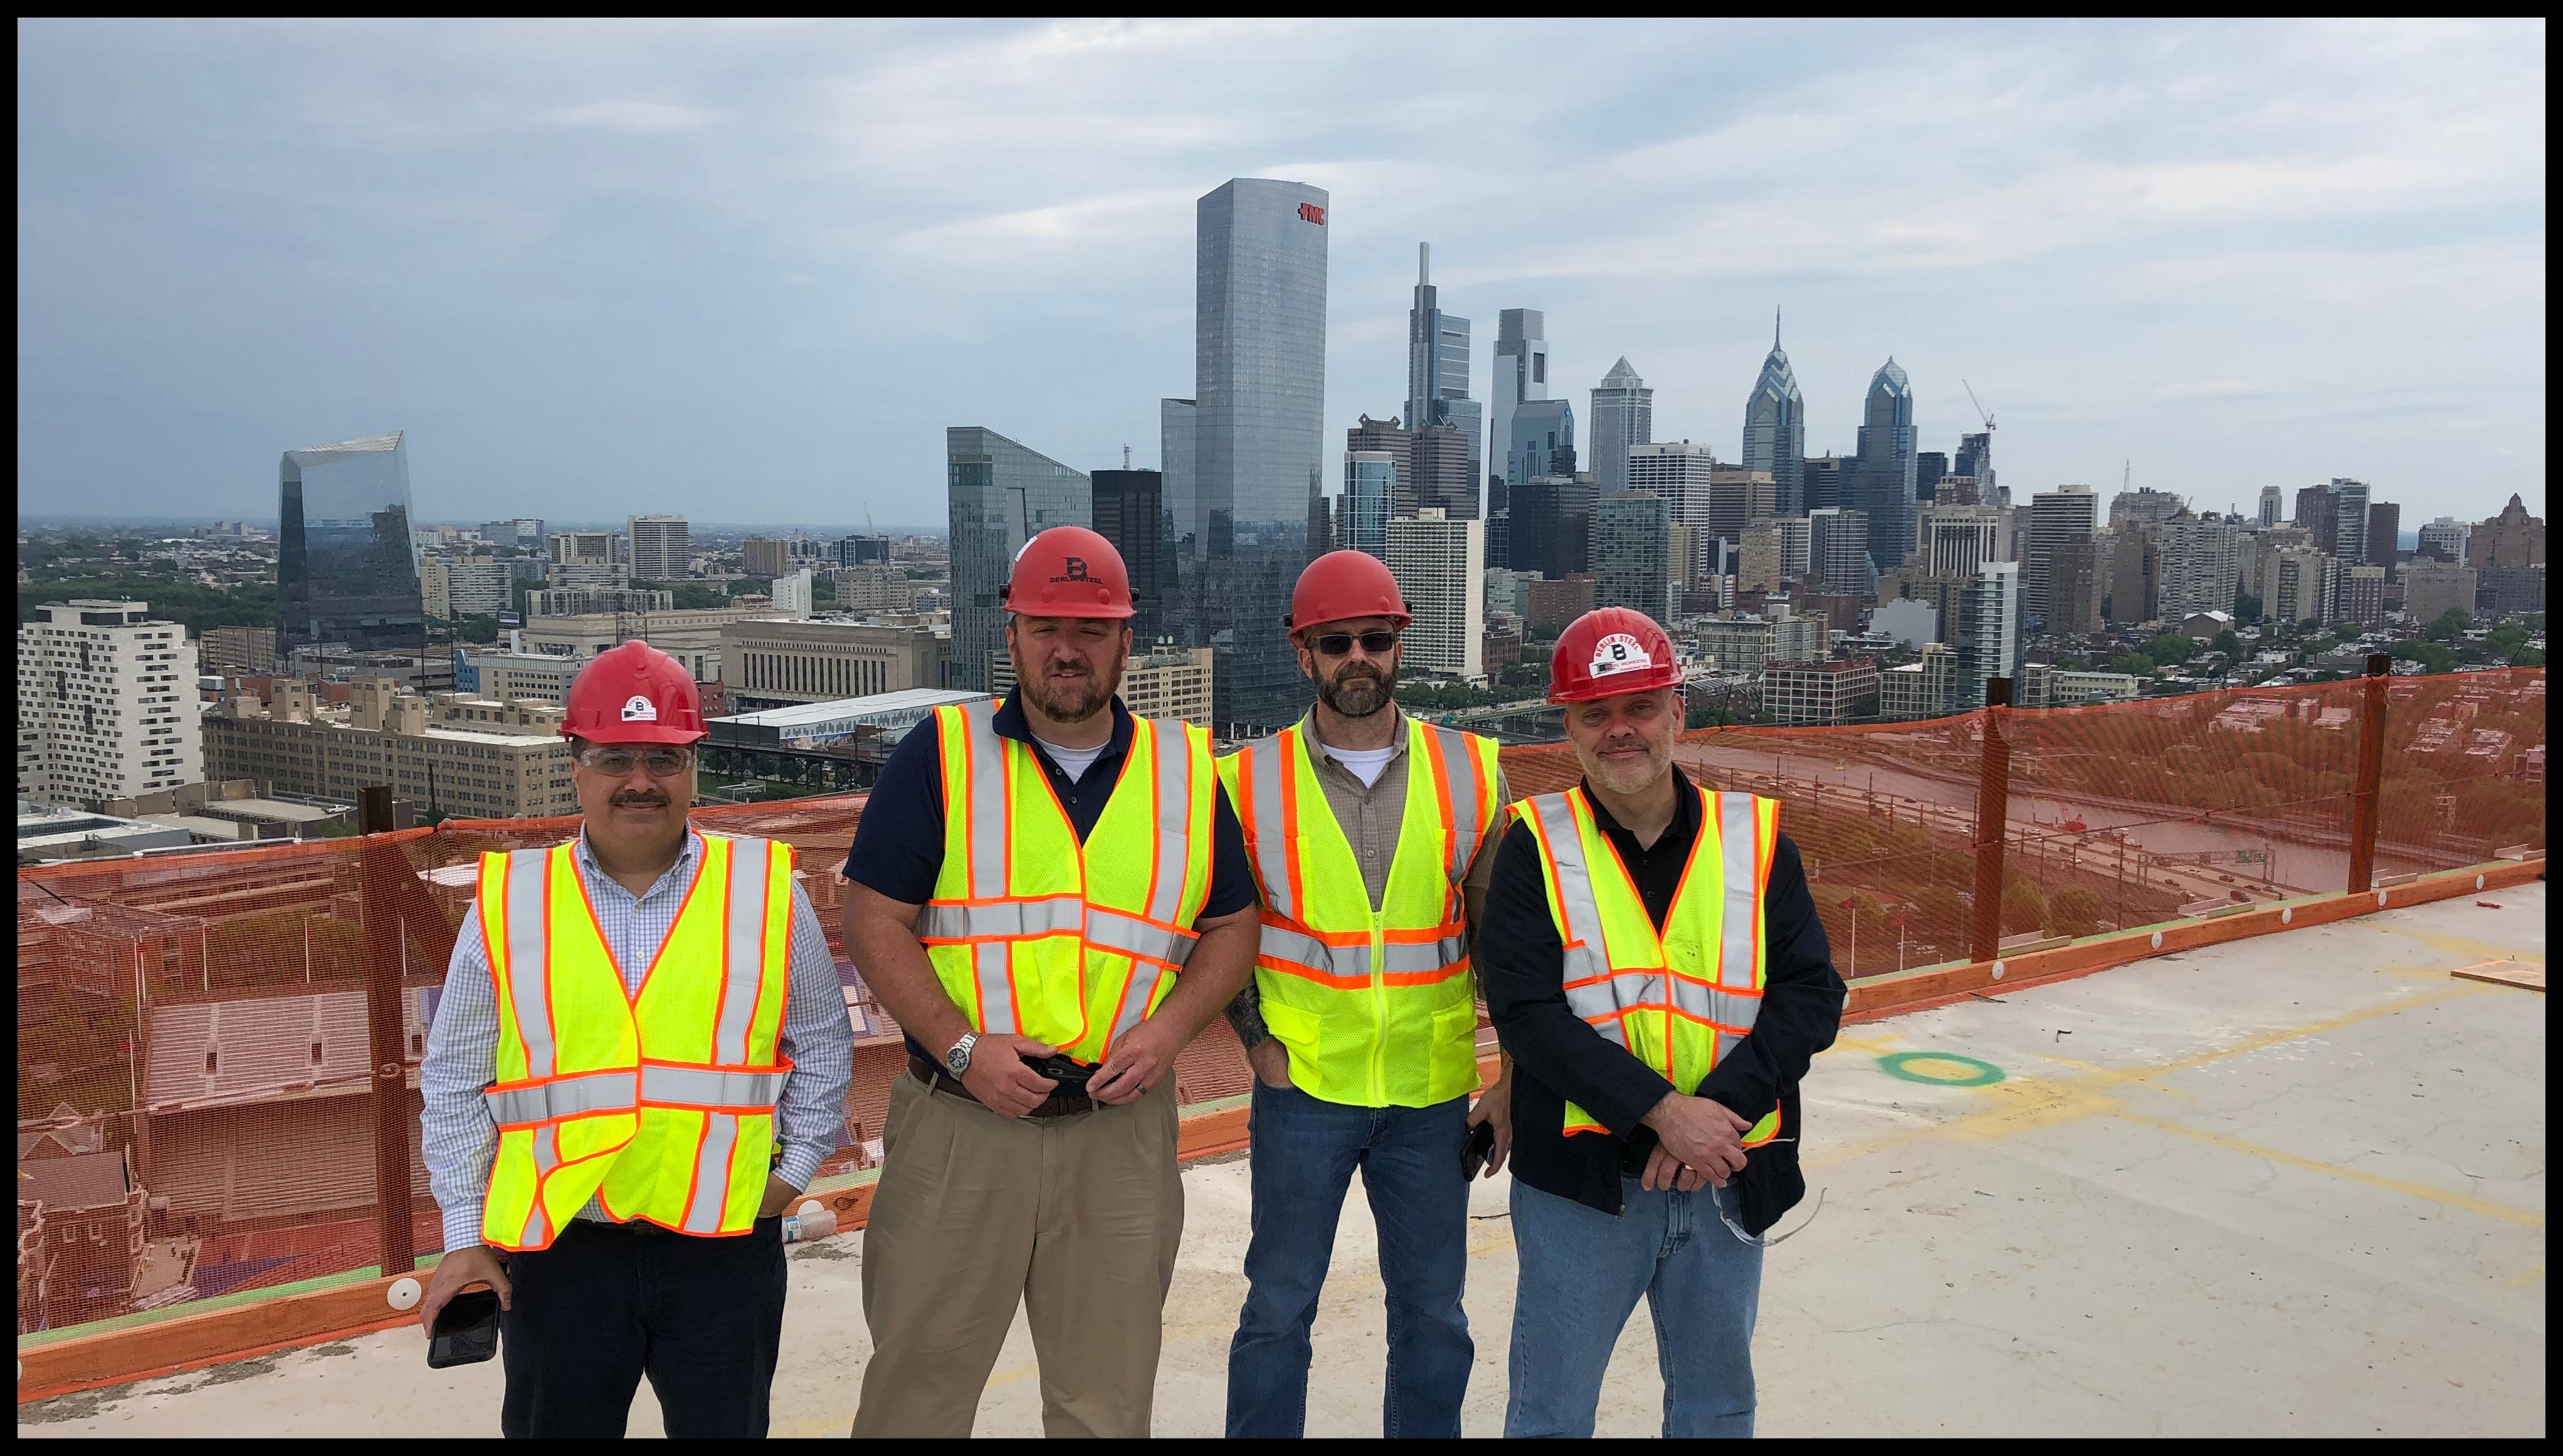helmet: (556, 644, 713, 754), (1544, 609, 1688, 713), (1005, 525, 1142, 629), (1283, 546, 1415, 644)
